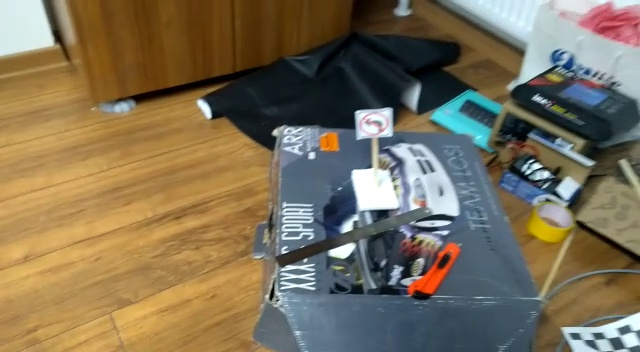sola_donulmez: (358, 109, 392, 138)
